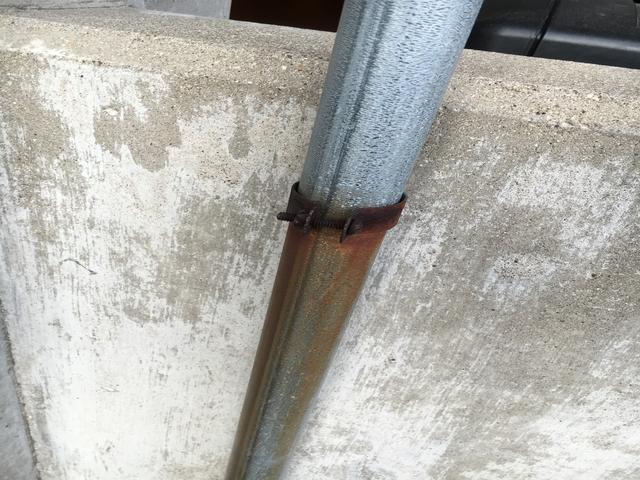Low: (279, 228, 388, 343)
Moderate: (281, 178, 408, 247)
